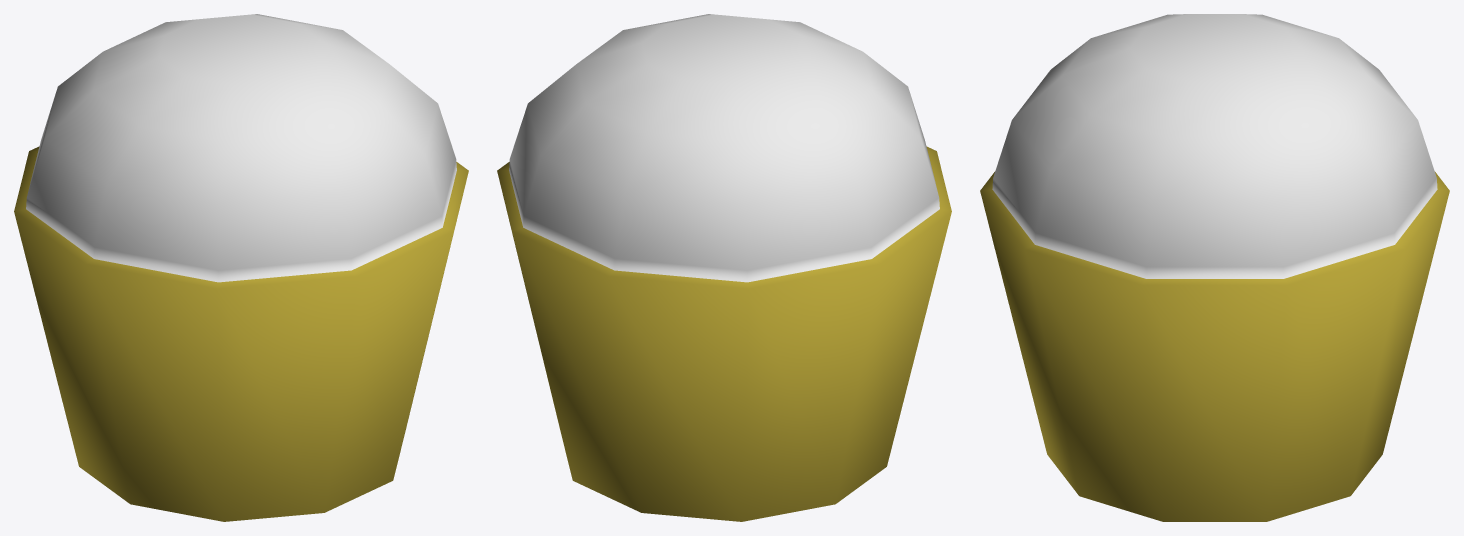
The model's file is RedMuffin.fbx.
3 views of the same model, side by side, from view 1: azimuth 30°, elevation 25°; view 2: azimuth 150°, elevation 25°; view 3: azimuth 270°, elevation 25° (orthographic).
Parts seen in each view (by area): view 1: RedMuffin; view 2: RedMuffin; view 3: RedMuffin.
Boxes of the visible parts, x1,y1,x2,y2 form: RedMuffin: (14,14,468,521); RedMuffin: (497,14,951,521); RedMuffin: (980,14,1449,521).
Bounding box in the file's own units: 17.57 × 17.67 × 18.48.
